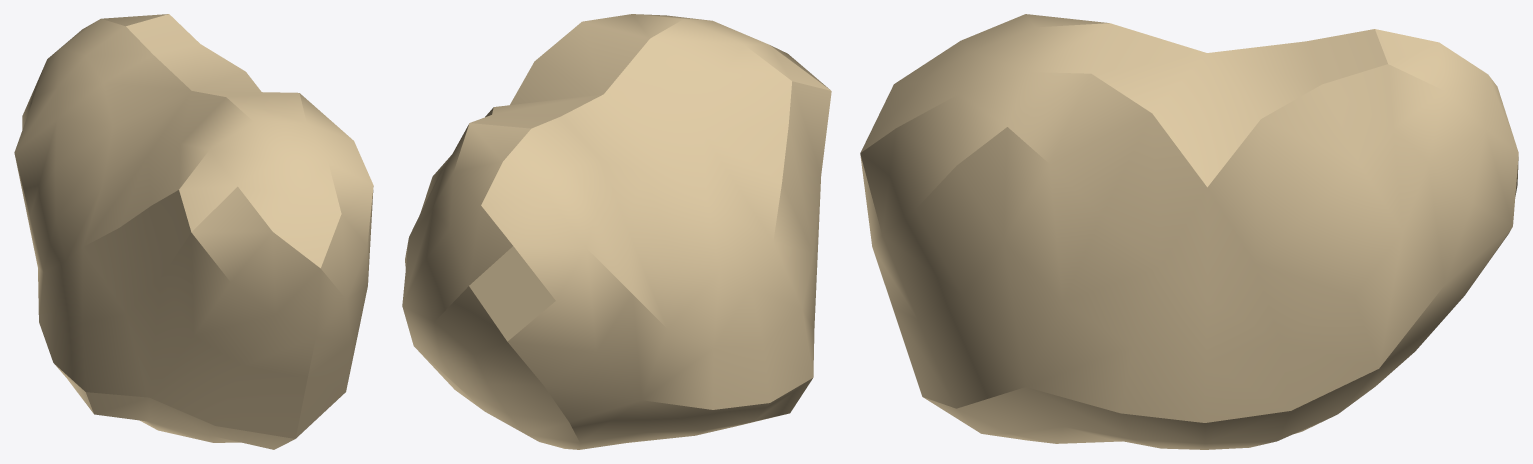
File: rock01.fbx
3 views of the same model, side by side, from view 1: azimuth 30°, elevation 25°; view 2: azimuth 150°, elevation 25°; view 3: azimuth 270°, elevation 25° (orthographic). The views are drawn at different scales.
Visible parts, largest first — view 1: rock; view 2: rock; view 3: rock.
Boxes of the visible parts, x1=… form: rock: x1=14, y1=14, x2=373, y2=449; rock: x1=402, y1=14, x2=831, y2=449; rock: x1=860, y1=14, x2=1518, y2=449.
Bounding box in the file's own units: 68.26 × 78.44 × 112.
